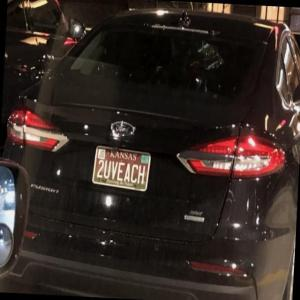Plate: (91, 145, 151, 191)
